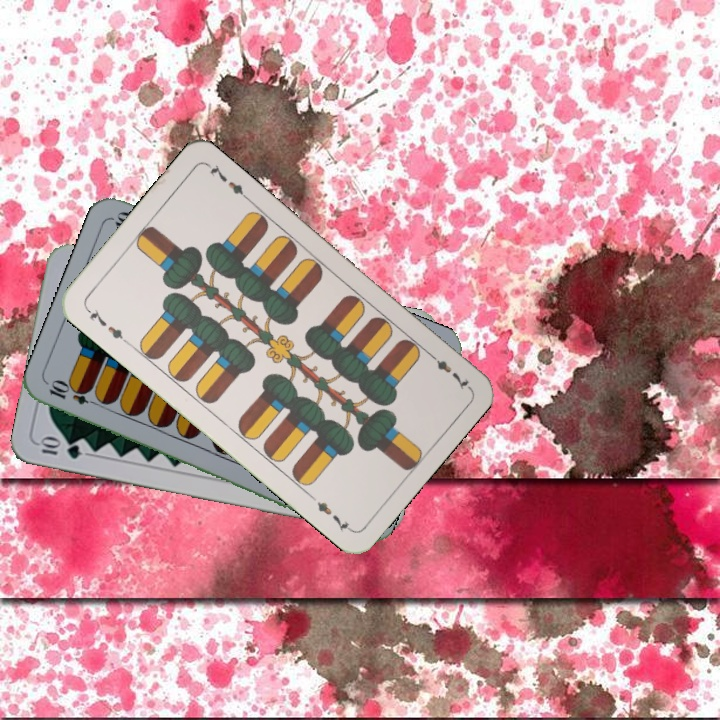E10: (45, 378, 103, 409)
E7: (423, 348, 472, 393), (81, 304, 130, 347)
G10: (35, 435, 85, 462)
